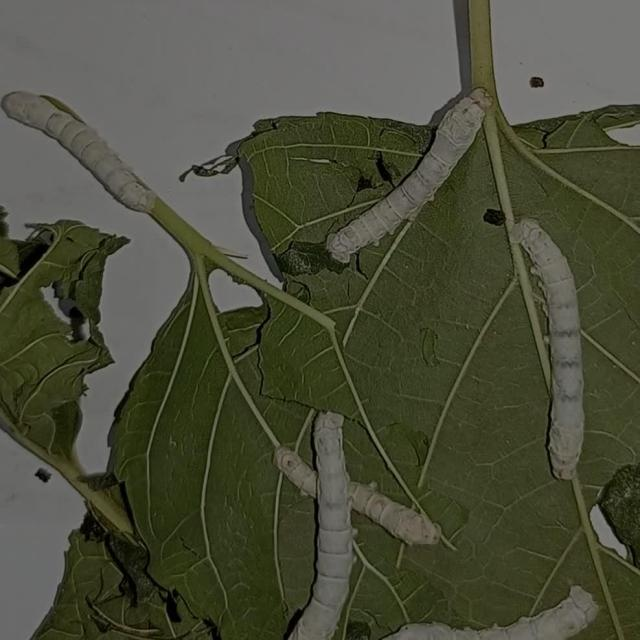Healthy: (277, 403, 443, 640), (313, 80, 495, 282), (1, 80, 166, 228), (511, 210, 598, 486)
